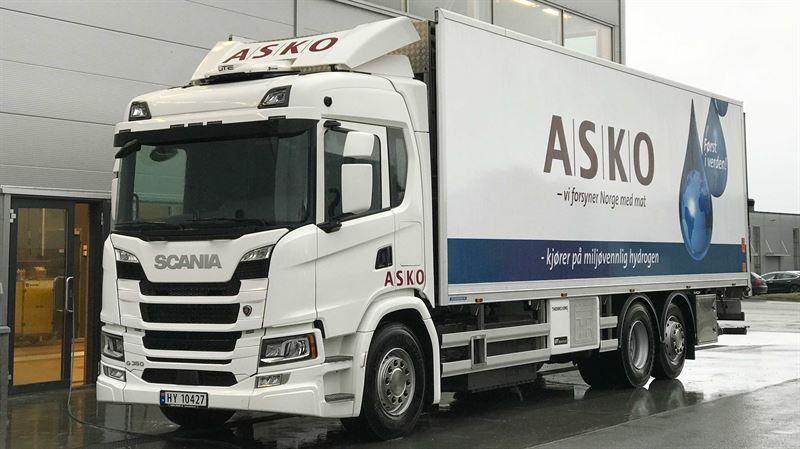tablica: (158, 388, 208, 409)
